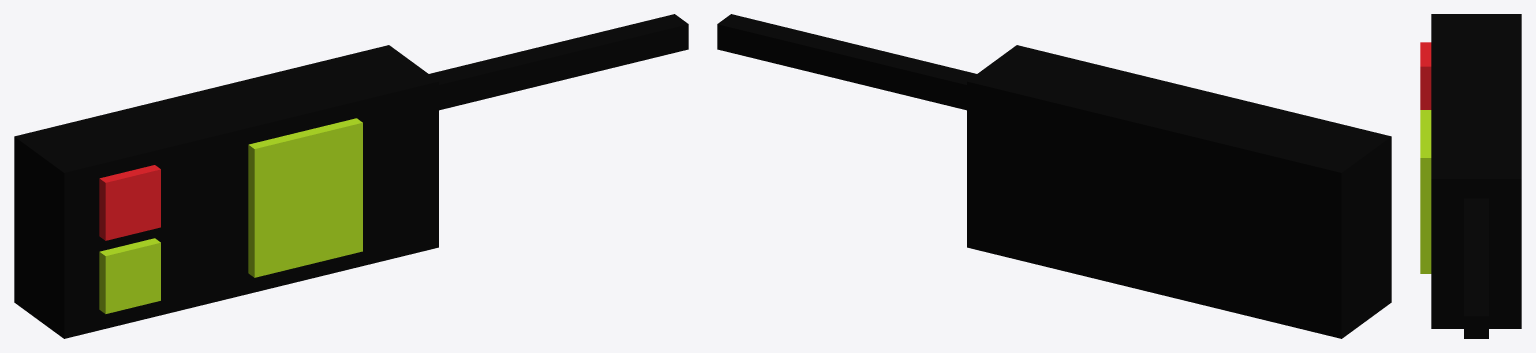
File: Radio.fbx
The picture shows the model from 3 angles, left to right: view 1: azimuth 30°, elevation 25°; view 2: azimuth 150°, elevation 25°; view 3: azimuth 270°, elevation 25°; orthographic projection. The views are drawn at different scales.
Parts seen in each view (by area): view 1: Cube; view 2: Cube; view 3: Cube.
Part boxes in pixels (x1,y1,x2,y2): Cube: (14, 14, 688, 338); Cube: (717, 14, 1391, 338); Cube: (1420, 14, 1521, 338).
Bounding box in the file's own units: 116 × 28.6 × 17.53.
1 material, 1 textured.
